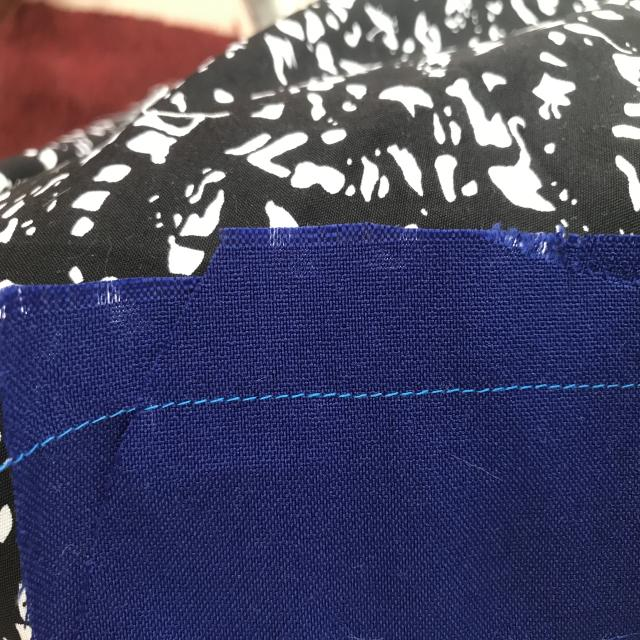good: (328, 382, 463, 405), (487, 376, 618, 397), (175, 392, 300, 407)
